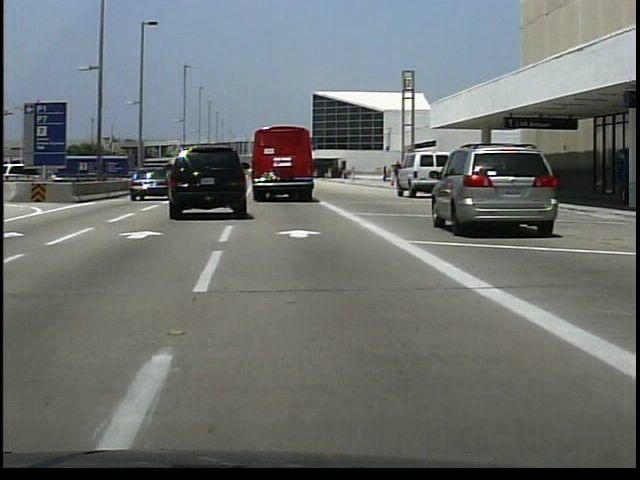person: (392, 158, 404, 196)
